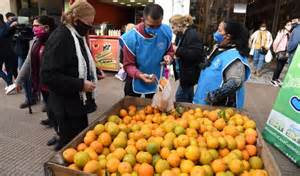orange: (168, 153, 180, 168)
